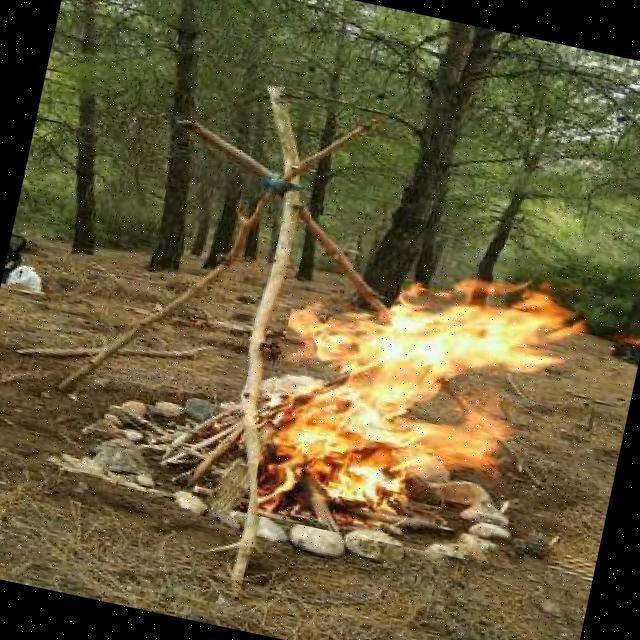fire: (247, 213, 584, 571)
